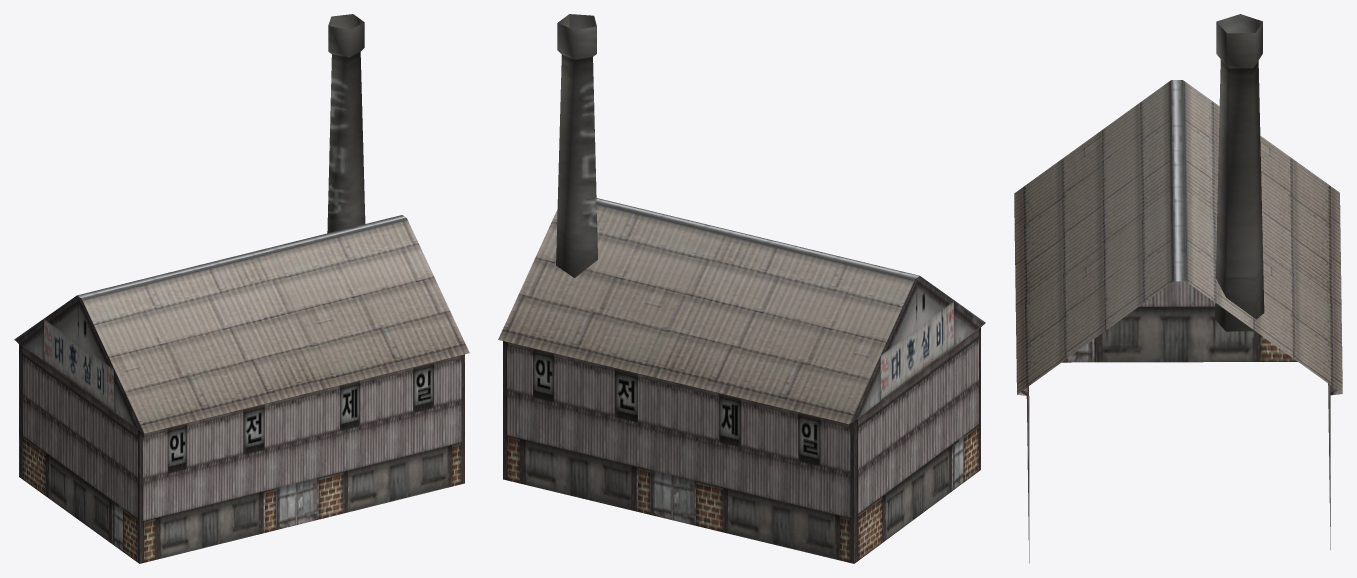
File: factory3.FBX
3 renders of one model, left to right at view 1: azimuth 30°, elevation 25°; view 2: azimuth 150°, elevation 25°; view 3: azimuth 270°, elevation 25°, orthographic. The views are drawn at different scales.
Visible parts, largest first — view 1: Cylinder001; view 2: Cylinder001; view 3: Cylinder001.
Boxes of the visible parts, x1,y1,x2,y2 form: Cylinder001: [14, 14, 469, 563]; Cylinder001: [498, 14, 985, 563]; Cylinder001: [1014, 14, 1342, 563].
Size of the model in its own units: 84.67 by 101 by 58.17.
1 material, 1 textured.
